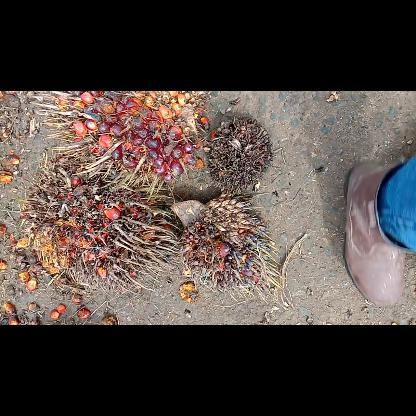TBS abnormal: (166, 197, 286, 307), (203, 114, 277, 198)
TBS masak: (29, 92, 203, 196)
Terlalu masak: (17, 150, 178, 296)
